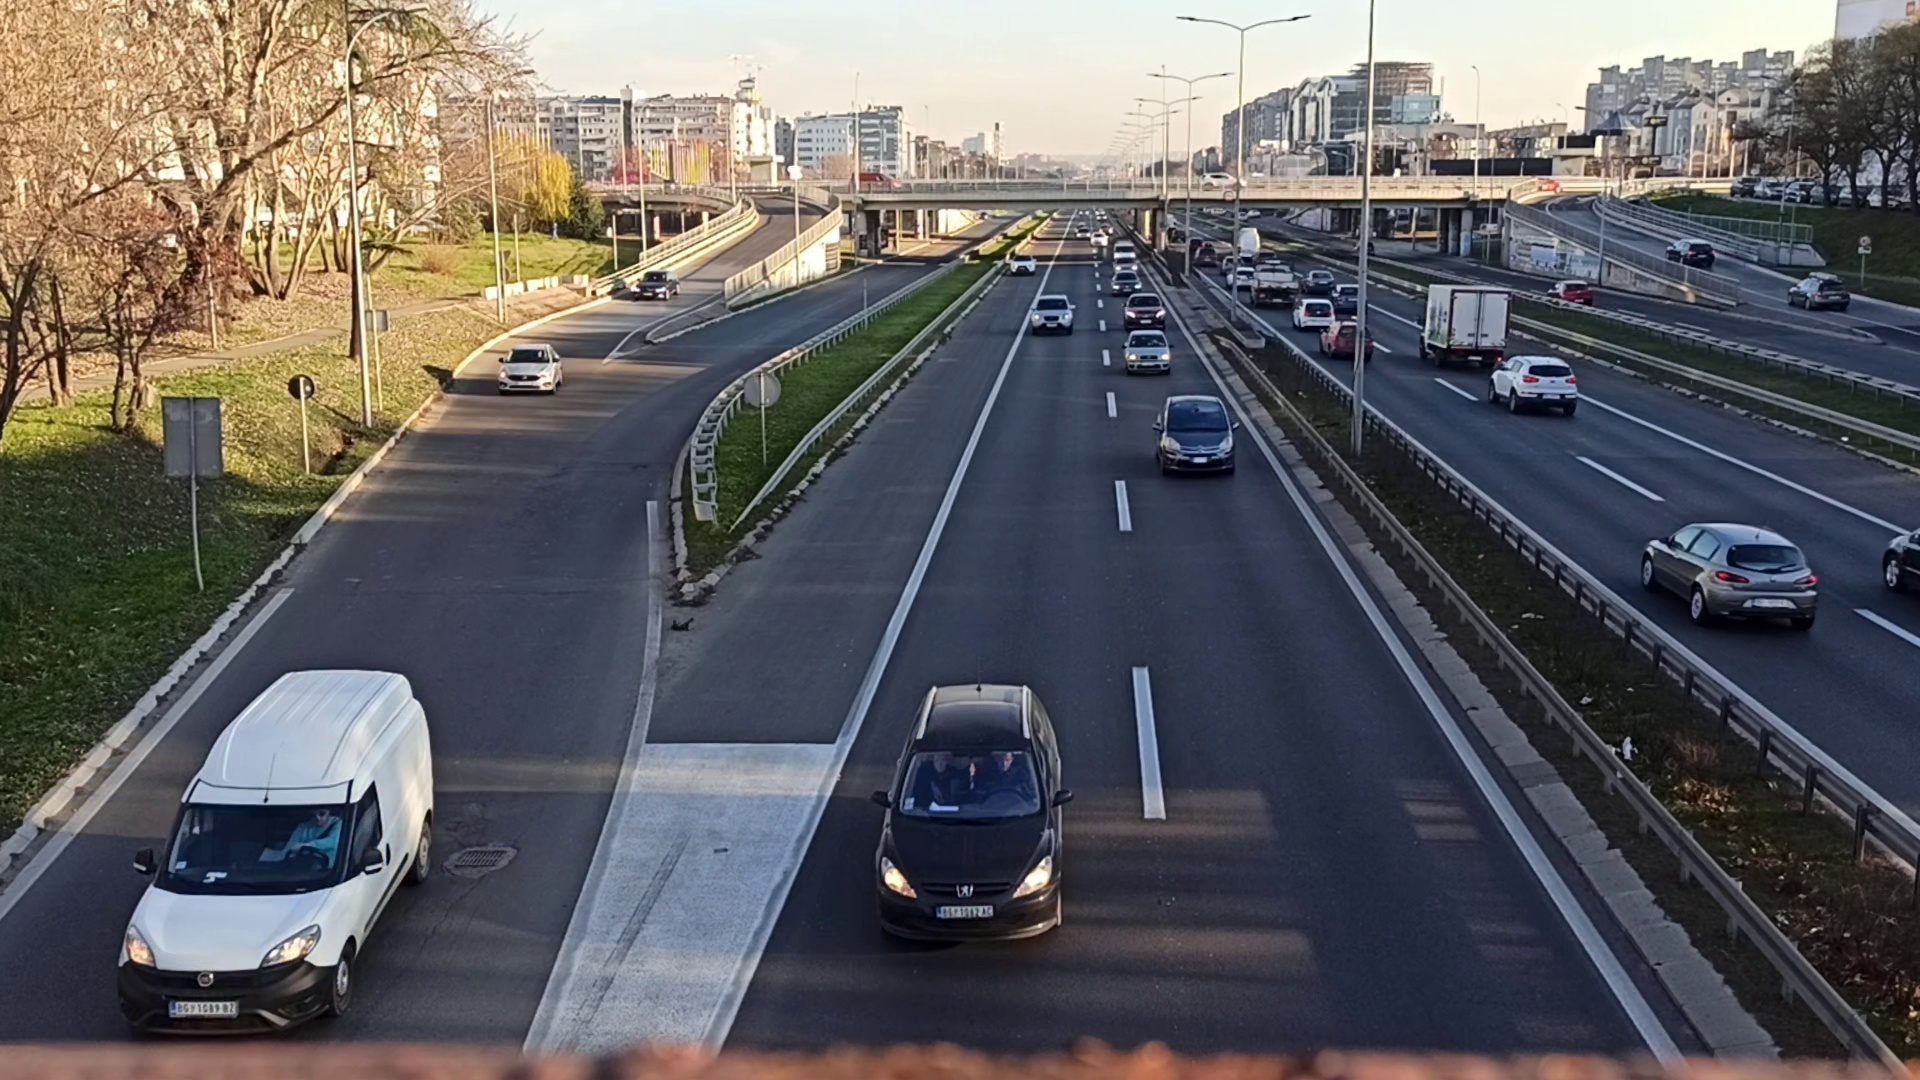car: (876, 675, 1062, 947), (1631, 513, 1818, 632), (1156, 393, 1236, 481), (1485, 357, 1578, 418), (495, 340, 564, 397), (1884, 517, 1920, 597), (1320, 323, 1374, 364), (1124, 328, 1171, 373), (1030, 294, 1073, 336), (634, 268, 678, 303), (1290, 295, 1335, 328), (1126, 294, 1168, 326)
van: (94, 670, 442, 1050)
